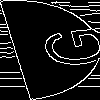G: (25, 25, 100, 72)
